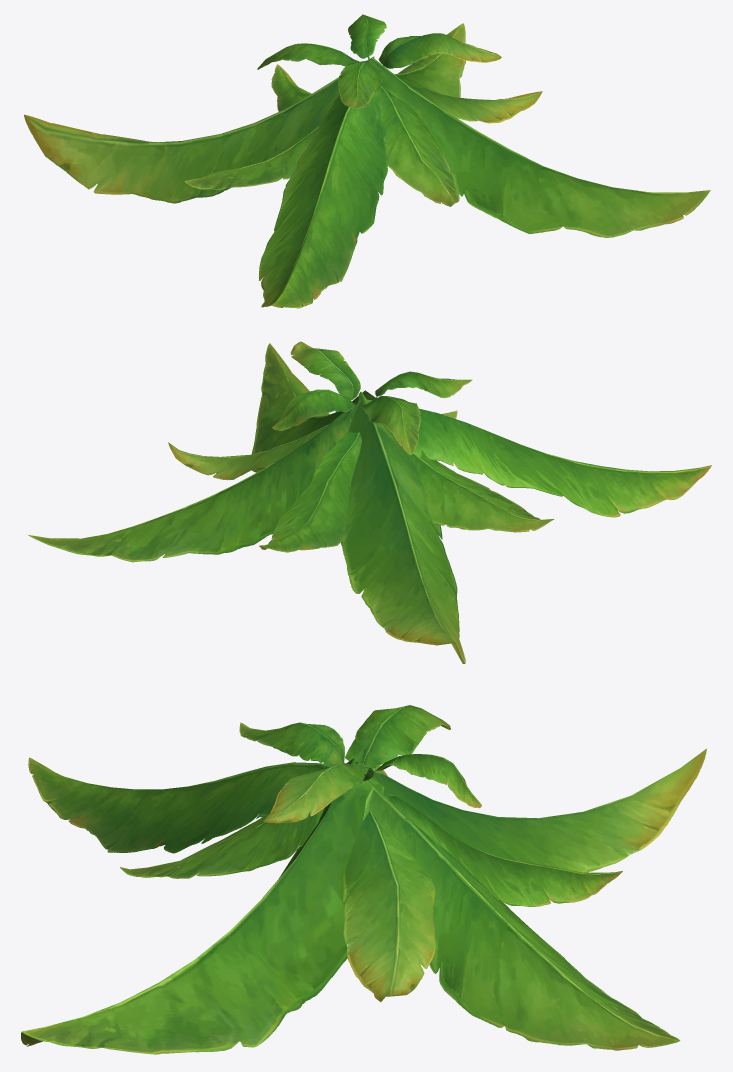
File: Homeworld_Exterior_Xm_Build_House_06_01_Lod0.fbx
The picture shows the model from 3 angles, top to bottom: view 1: azimuth 30°, elevation 25°; view 2: azimuth 150°, elevation 25°; view 3: azimuth 270°, elevation 25°; orthographic projection. The views are drawn at different scales.
Parts seen in each view (by area): view 1: Homeworld_Exterior_Xm_Build_House_06_01_Lod0; view 2: Homeworld_Exterior_Xm_Build_House_06_01_Lod0; view 3: Homeworld_Exterior_Xm_Build_House_06_01_Lod0.
Boxes of the visible parts, left/top/right/bottom form: Homeworld_Exterior_Xm_Build_House_06_01_Lod0: left=24, top=14, right=710, bottom=308; Homeworld_Exterior_Xm_Build_House_06_01_Lod0: left=28, top=341, right=711, bottom=663; Homeworld_Exterior_Xm_Build_House_06_01_Lod0: left=21, top=705, right=706, bottom=1054.
Bounding box in the file's own units: 4.67 × 1.8 × 4.71.
